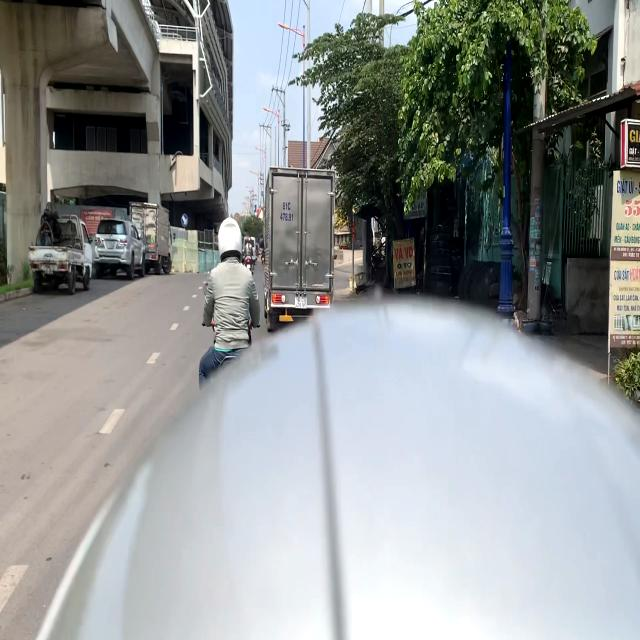R.302a: (181, 213, 188, 227)
